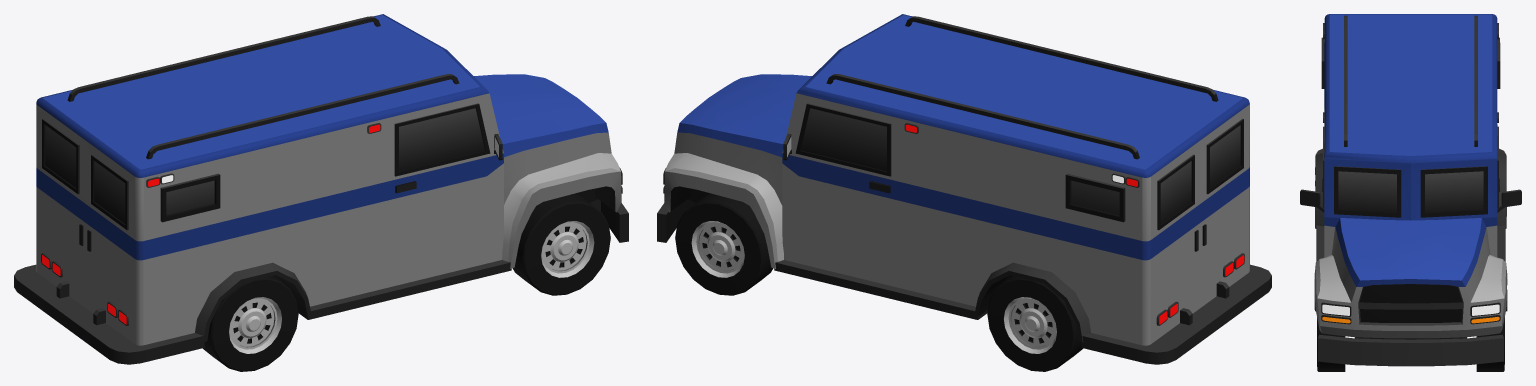
Rendered from Truck_022.glb.
The picture shows the model from 3 angles, left to right: view 1: azimuth 30°, elevation 25°; view 2: azimuth 150°, elevation 25°; view 3: azimuth 270°, elevation 25°; orthographic projection. The views are drawn at different scales.
Parts seen in each view (by area): view 1: Truck_022, wheel_1_Truck_022_Wheel_1R, wheel_3_Truck_022_Wheel_2R; view 2: Truck_022, wheel_0_Truck_022_Wheel_1L, wheel_2_Truck_022_Wheel_2L; view 3: Truck_022, wheel_0_Truck_022_Wheel_1L, wheel_1_Truck_022_Wheel_1R.
Part boxes in pixels (<box>): Truck_022: <box>14,14,628,364</box>; wheel_1_Truck_022_Wheel_1R: <box>513,193,610,295</box>; wheel_3_Truck_022_Wheel_2R: <box>203,276,298,371</box>; Truck_022: <box>657,14,1271,364</box>; wheel_0_Truck_022_Wheel_1L: <box>675,193,772,295</box>; wheel_2_Truck_022_Wheel_2L: <box>987,276,1083,371</box>; Truck_022: <box>1300,14,1521,366</box>; wheel_0_Truck_022_Wheel_1L: <box>1476,317,1504,371</box>; wheel_1_Truck_022_Wheel_1R: <box>1317,317,1345,371</box>.
Bounding box in the file's own units: 5.45 × 2.33 × 2.43.
Materials: 3 (3 with a texture image).
